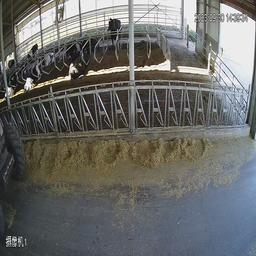cow: (65, 41, 92, 84), (20, 56, 45, 91), (103, 12, 124, 48), (43, 41, 59, 73), (26, 35, 43, 60)
